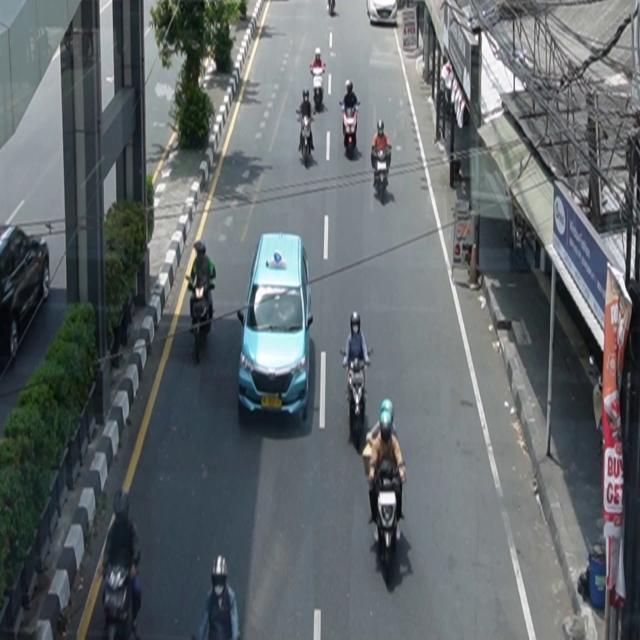car: (238, 232, 315, 424), (1, 223, 51, 363), (367, 1, 398, 26)
